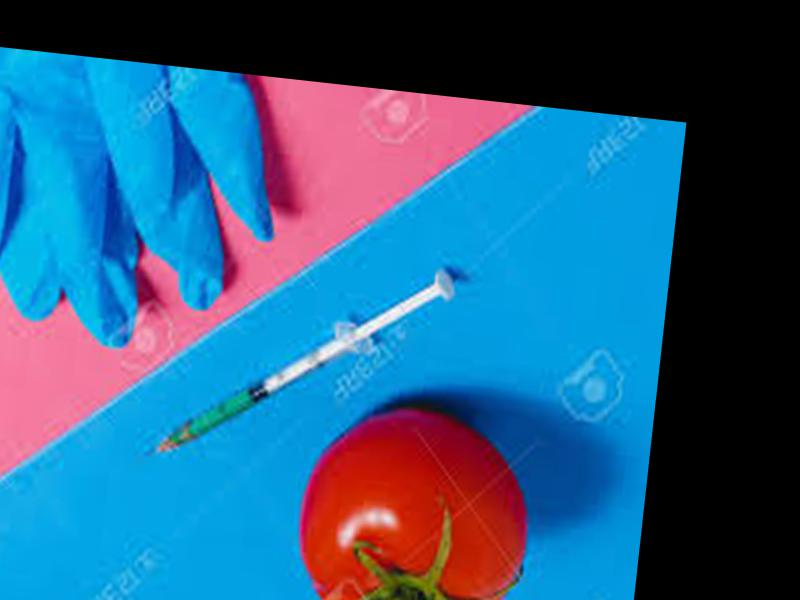Tomato: (288, 394, 536, 600)
